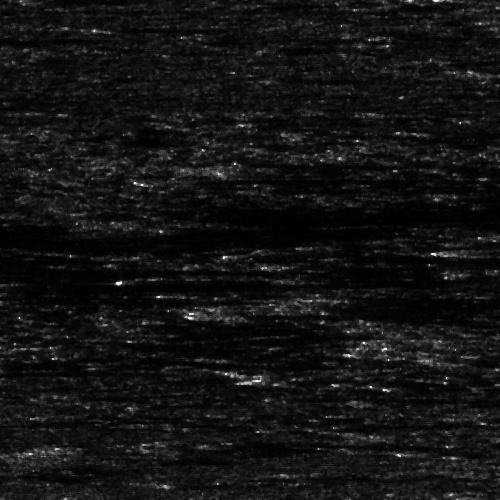object: (96, 172, 221, 185), (405, 244, 500, 257), (204, 159, 287, 166), (214, 375, 287, 382), (0, 279, 48, 288), (58, 24, 141, 29), (371, 33, 402, 38), (480, 3, 500, 10), (436, 0, 499, 1)
shadow: (159, 172, 376, 185), (2, 279, 257, 288), (251, 375, 422, 382), (0, 28, 72, 43), (99, 24, 206, 29), (462, 244, 500, 257), (246, 159, 301, 166), (387, 33, 445, 38), (0, 297, 45, 302)
